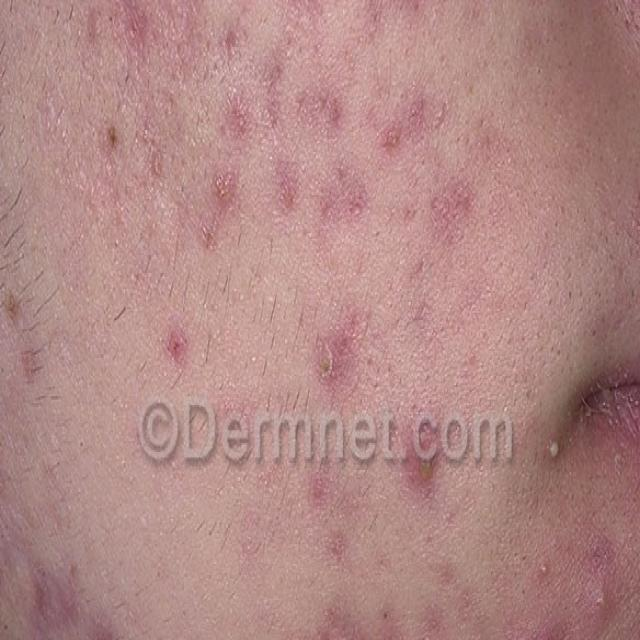Acne: (107, 7, 503, 366), (0, 412, 136, 640), (264, 560, 577, 640), (397, 398, 446, 513)
